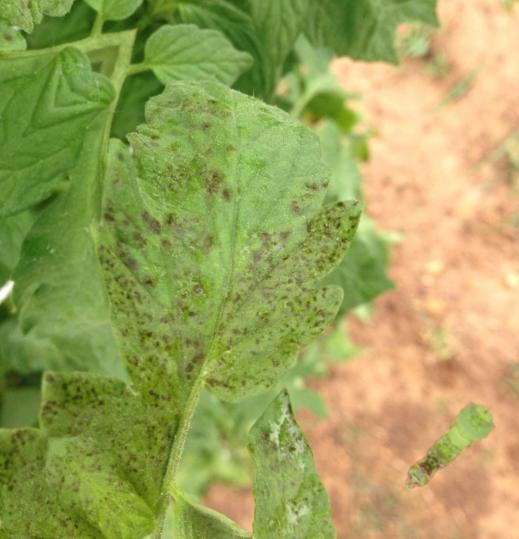Tomato Septoria leaf spot: (12, 43, 405, 435), (3, 322, 266, 539), (166, 389, 397, 539)
